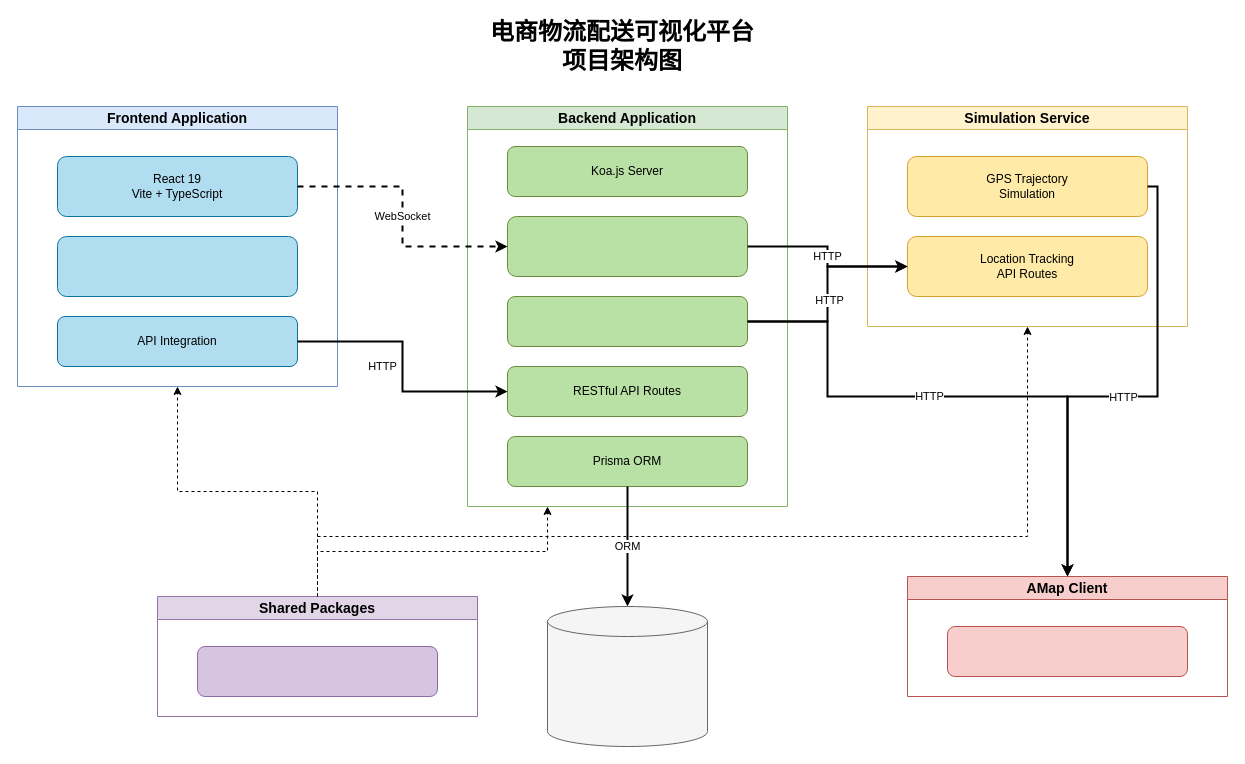
This 1245x764 diagram has some shape labels left out. Each missing label, with the centre of its shape:
AMAP API Server: (x=1067, y=651)
Authentication & State Management: (x=177, y=266)
Common Types & Utilities: (x=317, y=671)
Controllers & Services: (x=627, y=321)
Database PostgreSQL: (x=627, y=676)
WebSocket Real-time Communication: (x=627, y=246)
